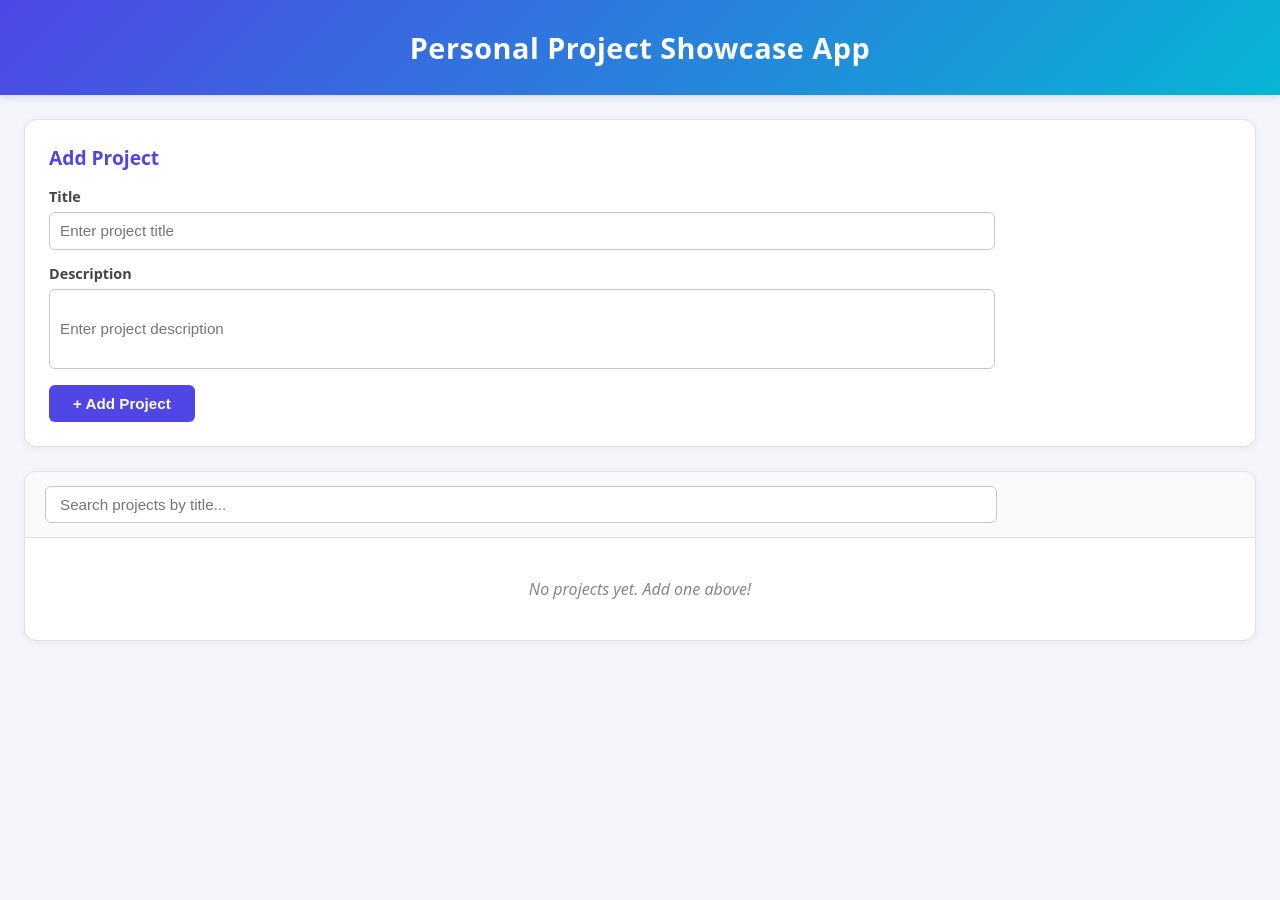
Test: adds a project card and clears the inputs
Type "My Project" into the field labelled "Title" at (522, 231), box [49,212,995,250]
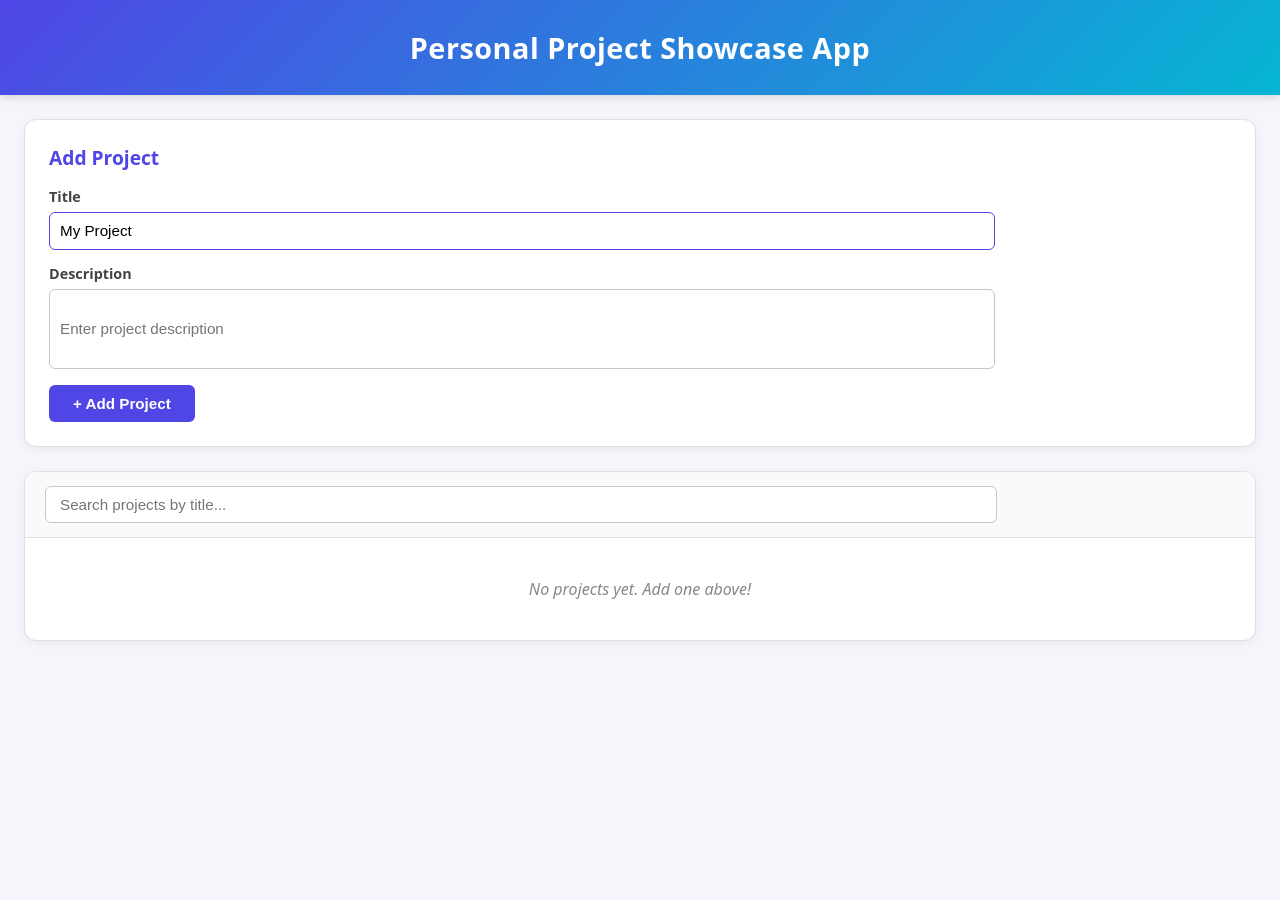
Type "A cool project" into the field labelled "Description" at (522, 329), box [49,289,995,369]
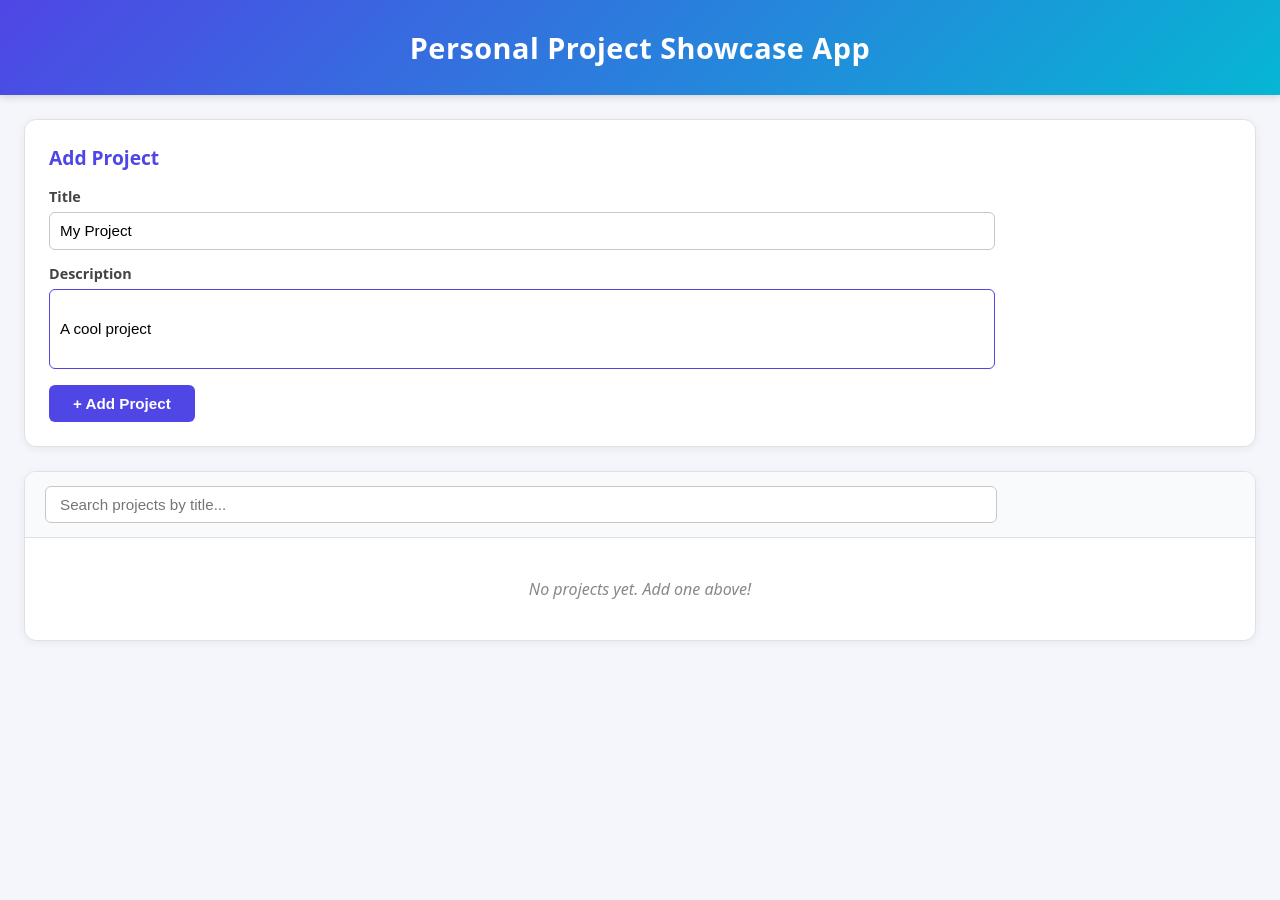
Click the button "+ Add Project" at (122, 403), box [49,385,195,422]
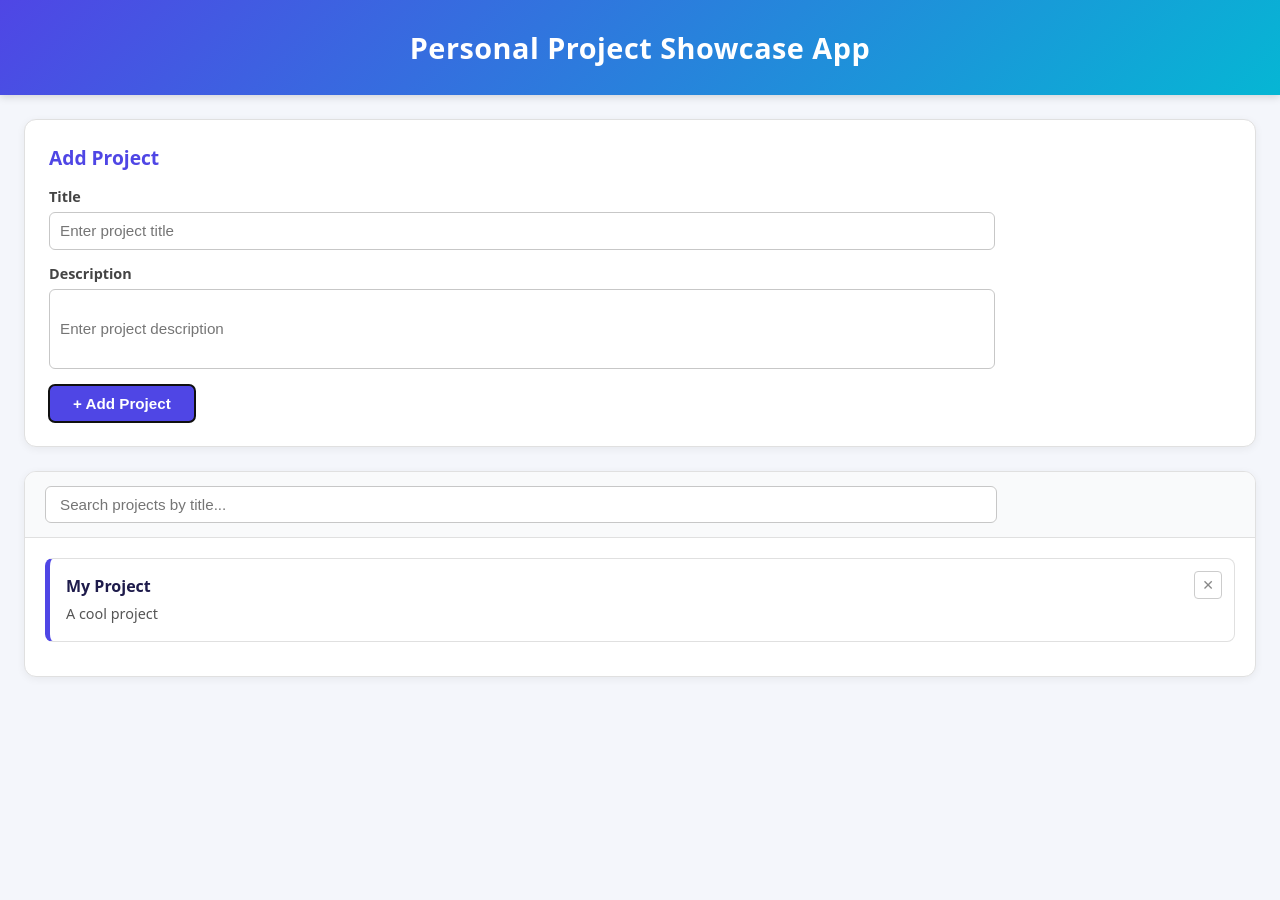
expect the heading "My Project" is shown: met, box [66,575,151,597]
expect the field labelled "Title" is empty: met, box [49,212,995,250]
expect the field labelled "Description" is empty: met, box [49,289,995,369]
